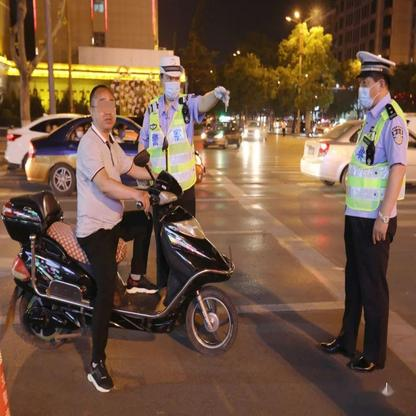target: (3, 84, 238, 393)
